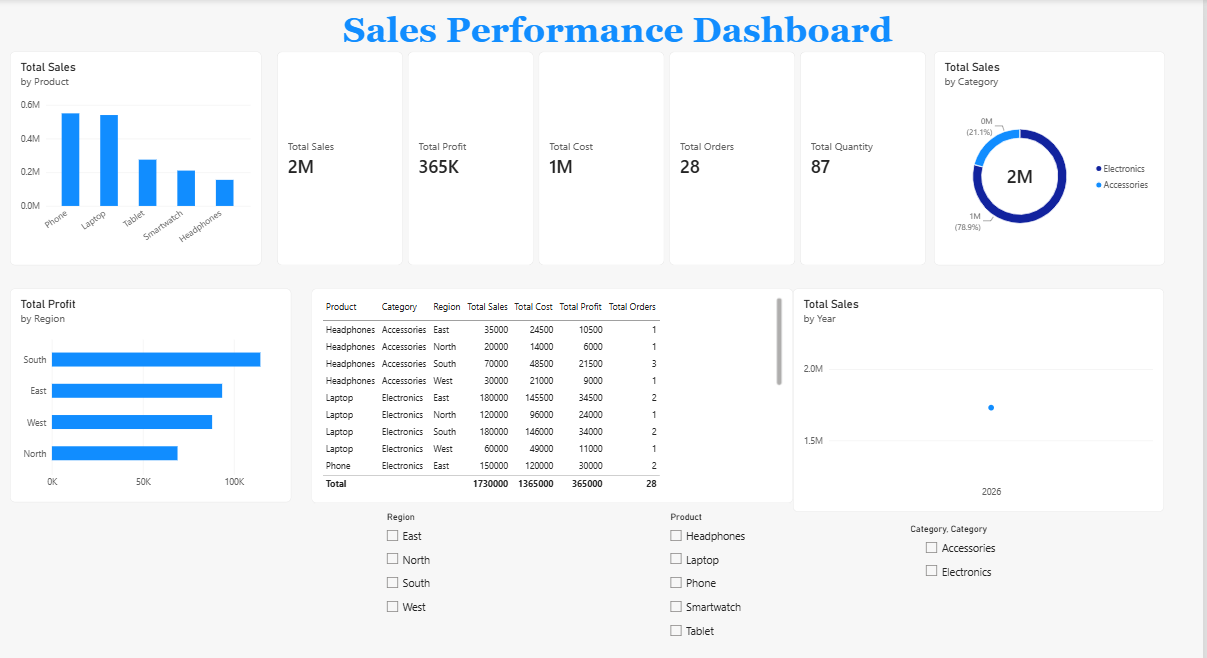

What the dashboard file says about the page in this screenshot:
{"tool":"powerbi","page":{"name":"Page 1","canvas":[1920,1080],"ordinal":0},"visuals":[{"type":"cardVisual","fields":{"Data":["Products.Total Sales","Products.Total Profit","Products.Total Cost","Products.Total Orders","Products.Total Quantity"]},"box":[447.5,82.5,1035,340],"z":0},{"type":"clusteredColumnChart","fields":{"Category":["Products.Product"],"Y":["Products.Total Sales"]},"box":[25,82.5,400,340],"z":1000},{"type":"barChart","fields":{"Category":["Sales.Region"],"Y":["Products.Total Profit"]},"box":[25,460,447.5,340],"z":2000},{"type":"donutChart","fields":{"Category":["Products.Category"],"Y":["Products.Total Sales"]},"box":[1492.5,82.5,367.5,340],"z":3000},{"type":"lineChart","fields":{"Category":["Sales.Date.Variation.Date Hierarchy.Year","Sales.Date.Variation.Date Hierarchy.Quarter","Sales.Date.Variation.Date Hierarchy.Month","Sales.Date.Variation.Date Hierarchy.Day"],"Y":["Products.Total Sales"]},"box":[1270,460,590,355],"z":4000},{"type":"slicer","fields":{"Values":["Sales.Region"]},"box":[627.5,801.7,408,248.1],"z":5000},{"type":"slicer","fields":{"Values":["Products.Category","Products.Category"]},"box":[1448.3,835.1,367.5,122.5],"z":6000},{"type":"slicer","fields":{"Values":["Products.Product"]},"box":[1066.5,816,610.8,264.8],"z":7000},{"type":"textbox","box":[1633,105,287,183],"z":8000},{"type":"textbox","box":[552.5,17.5,1125,87.5],"z":9000},{"type":"tableEx","box":[881,460,389,340],"z":10000},{"type":"tableEx","fields":{"Values":["Products.Product","Products.Category","Sales.Region","Products.Total Sales","Products.Total Cost","Products.Total Profit","Products.Total Orders"]},"box":[482,460.5,765.9,341.2],"z":11000}]}

Visuals, with their boxes on the page's 1920x1080 design canvas (x1, y1, x2, y2). These are canvas units, not pixel positions in the 1207x658 screenshot, which may show the page scaled, cropped or inside an application window:
cardVisual - Products.Total Sales x Products.Total Profit: (x1=448, y1=82, x2=1482, y2=422)
clusteredColumnChart - Products.Product x Products.Total Sales: (x1=25, y1=82, x2=425, y2=422)
barChart - Sales.Region x Products.Total Profit: (x1=25, y1=460, x2=472, y2=800)
donutChart - Products.Category x Products.Total Sales: (x1=1492, y1=82, x2=1860, y2=422)
lineChart - Sales.Date.Variation.Date Hierarchy.Year x Sales.Date.Variation.Date Hierarchy.Quarter: (x1=1270, y1=460, x2=1860, y2=815)
slicer - Sales.Region: (x1=628, y1=802, x2=1036, y2=1050)
slicer - Products.Category x Products.Category: (x1=1448, y1=835, x2=1816, y2=958)
slicer - Products.Product: (x1=1066, y1=816, x2=1677, y2=1081)
textbox: (x1=1633, y1=105, x2=1920, y2=288)
textbox: (x1=552, y1=18, x2=1678, y2=105)
tableEx: (x1=881, y1=460, x2=1270, y2=800)
tableEx - Products.Product x Products.Category: (x1=482, y1=460, x2=1248, y2=802)
